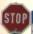Stop sign: (0, 0, 32, 33)
